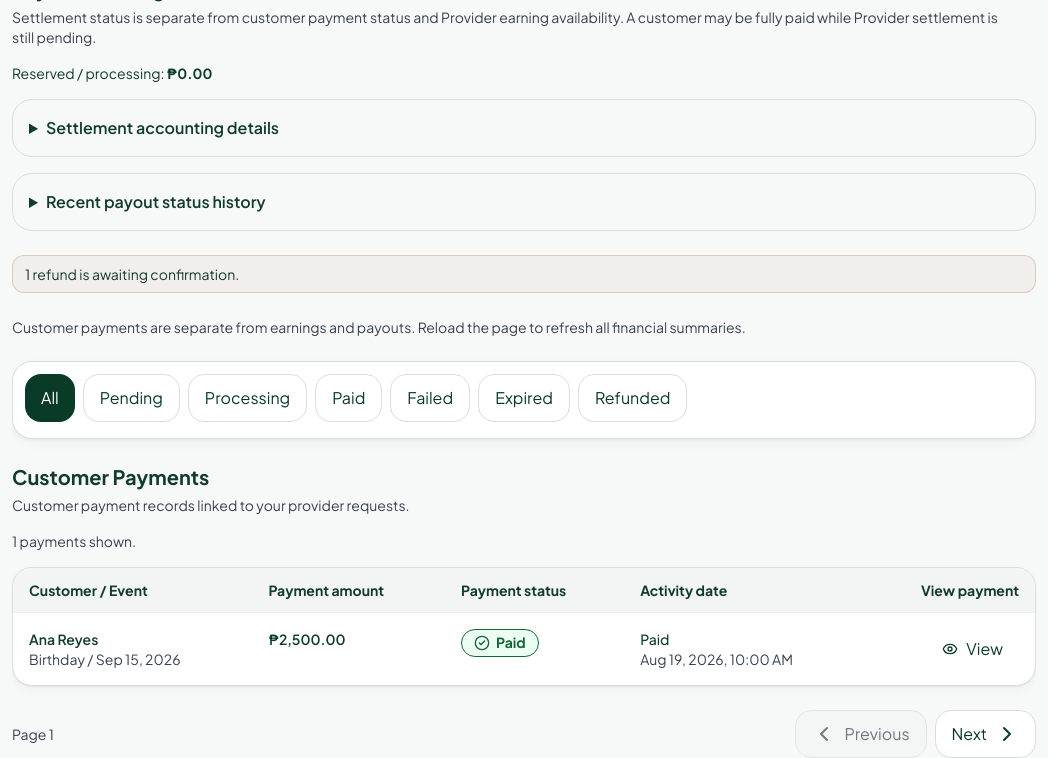
Test case: provider booking payments workspace › uses opaque cursor history for Next and Previous
(page scrolled)
Step 1. Click the button "Next" → (985, 734), box left=934, top=710, right=1036, bottom=757
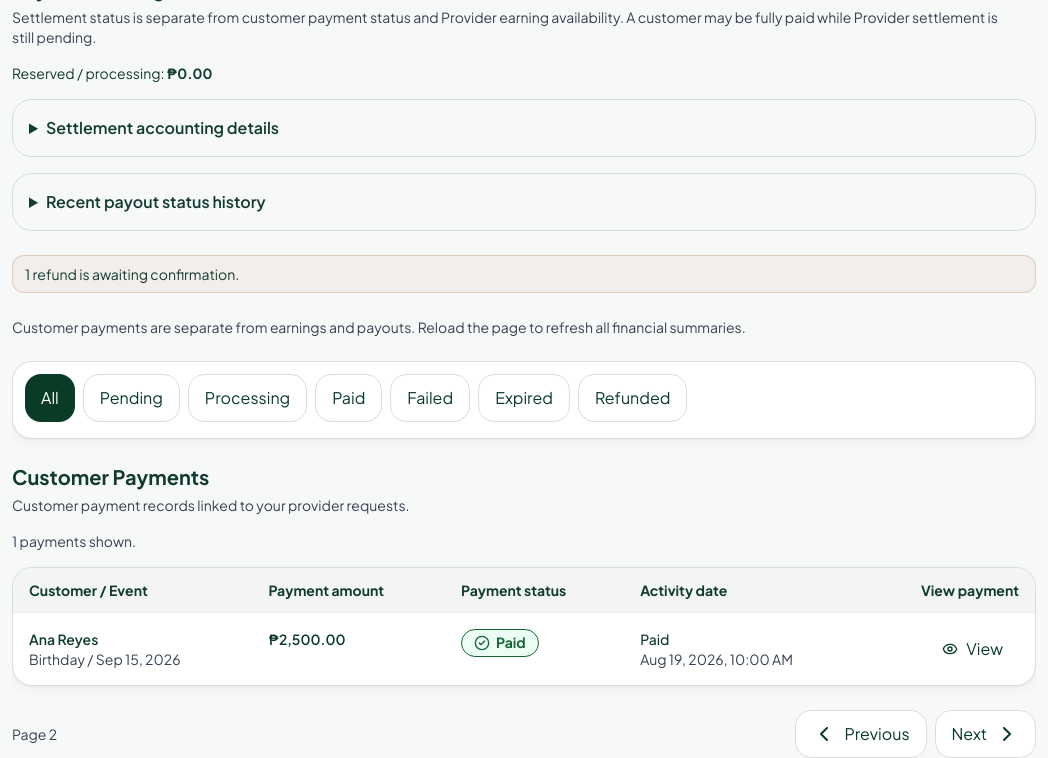
Expected: the text "Page 2" is shown, left=12, top=724, right=57, bottom=744
Step 2. Click the button "Previous" → (861, 734), box left=795, top=710, right=926, bottom=757
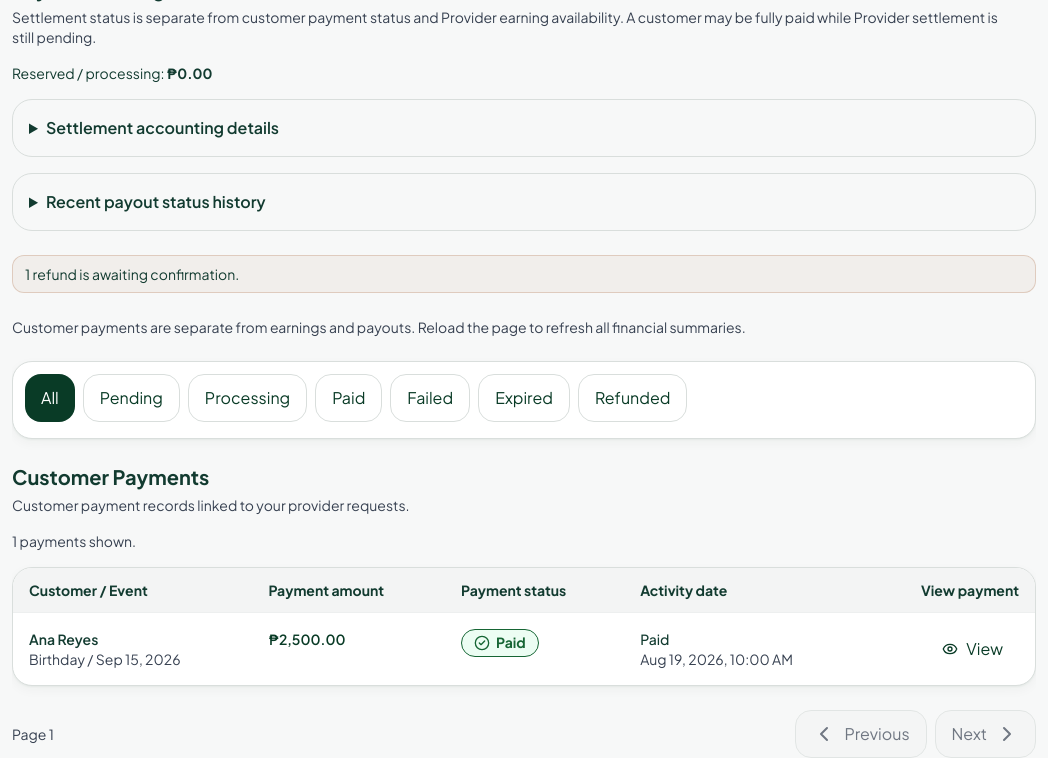
Expected: the text "Page 1" is shown, left=12, top=724, right=54, bottom=744
